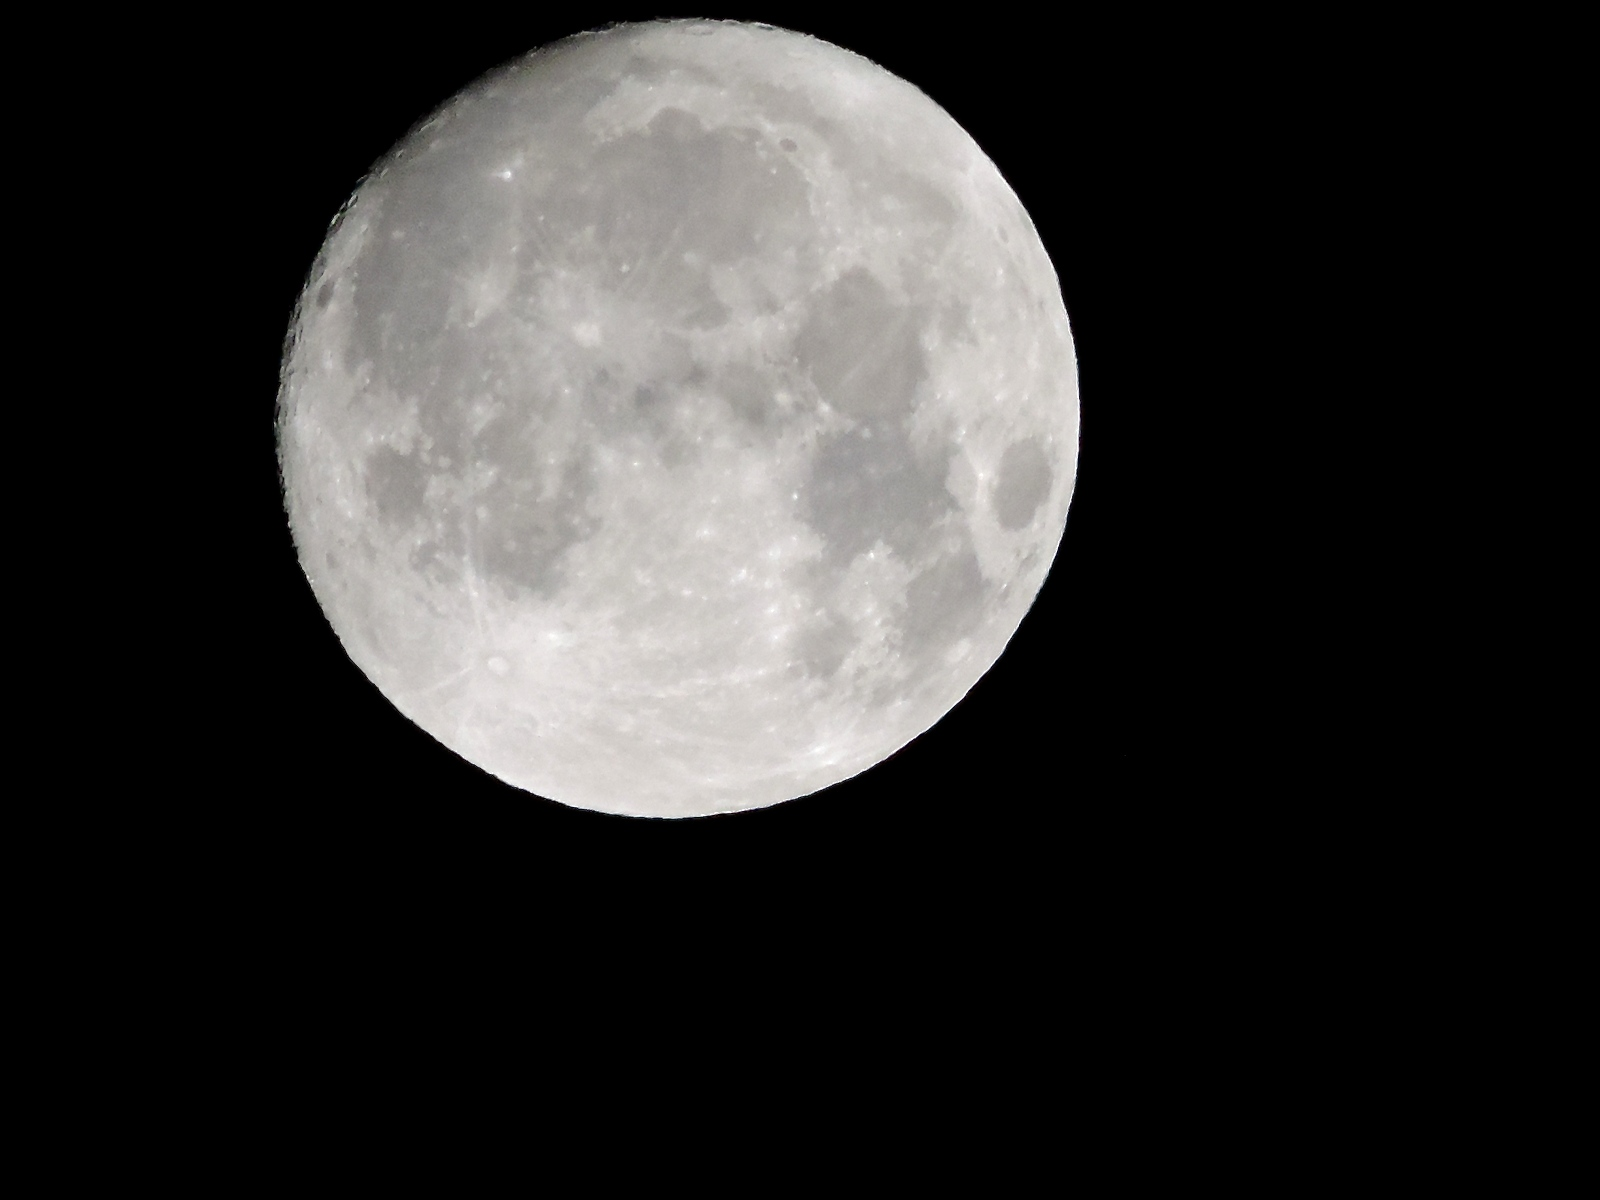crater: (457, 619, 538, 703), (554, 296, 615, 350), (483, 151, 523, 188), (981, 384, 1009, 413), (784, 483, 810, 513), (986, 568, 1012, 597), (862, 542, 884, 567), (750, 659, 774, 681), (957, 422, 981, 444), (973, 466, 993, 490), (782, 655, 799, 674)
